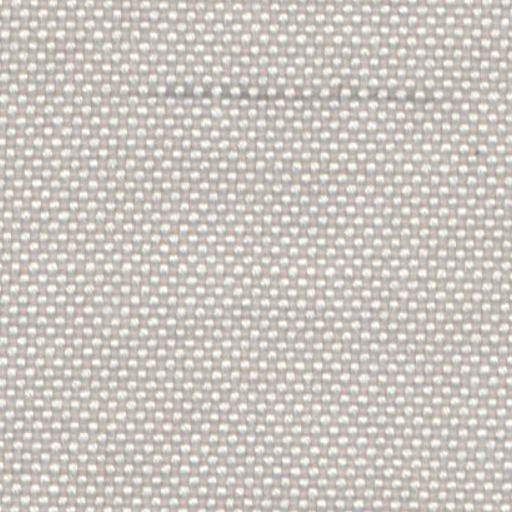WuZi: (142, 78, 416, 102)
